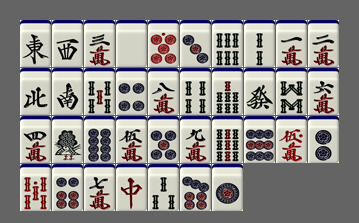0m: (276, 116, 307, 163)
0p: (148, 20, 179, 67)
0s: (20, 164, 51, 211)
1m: (276, 20, 307, 67)
1p: (212, 164, 243, 211)
1s: (52, 116, 83, 163)
1z: (20, 20, 51, 67)
2m: (308, 20, 339, 67)
2p: (308, 116, 339, 163)
2s: (244, 20, 275, 67)
2z: (52, 68, 83, 115)
3m: (84, 20, 115, 67)
3p: (180, 20, 211, 67)
3s: (148, 164, 179, 211)
3z: (52, 20, 83, 67)
4m: (20, 116, 51, 163)
4p: (116, 68, 147, 115)
4s: (180, 68, 211, 115)
4z: (20, 68, 51, 115)
5m: (116, 116, 147, 163)
5p: (148, 116, 179, 163)
5s: (84, 68, 115, 115)
5z: (116, 20, 147, 67)
6m: (308, 68, 339, 115)
6p: (52, 164, 83, 211)
6s: (212, 20, 243, 67)
6z: (244, 68, 275, 115)
7m: (84, 164, 115, 211)
7p: (180, 164, 211, 211)
7s: (212, 68, 243, 115)
7z: (116, 164, 147, 211)
8m: (148, 68, 179, 115)
8p: (84, 116, 115, 163)
8s: (276, 68, 307, 115)
9m: (180, 116, 211, 163)
9p: (244, 116, 275, 163)
9s: (212, 116, 243, 163)
